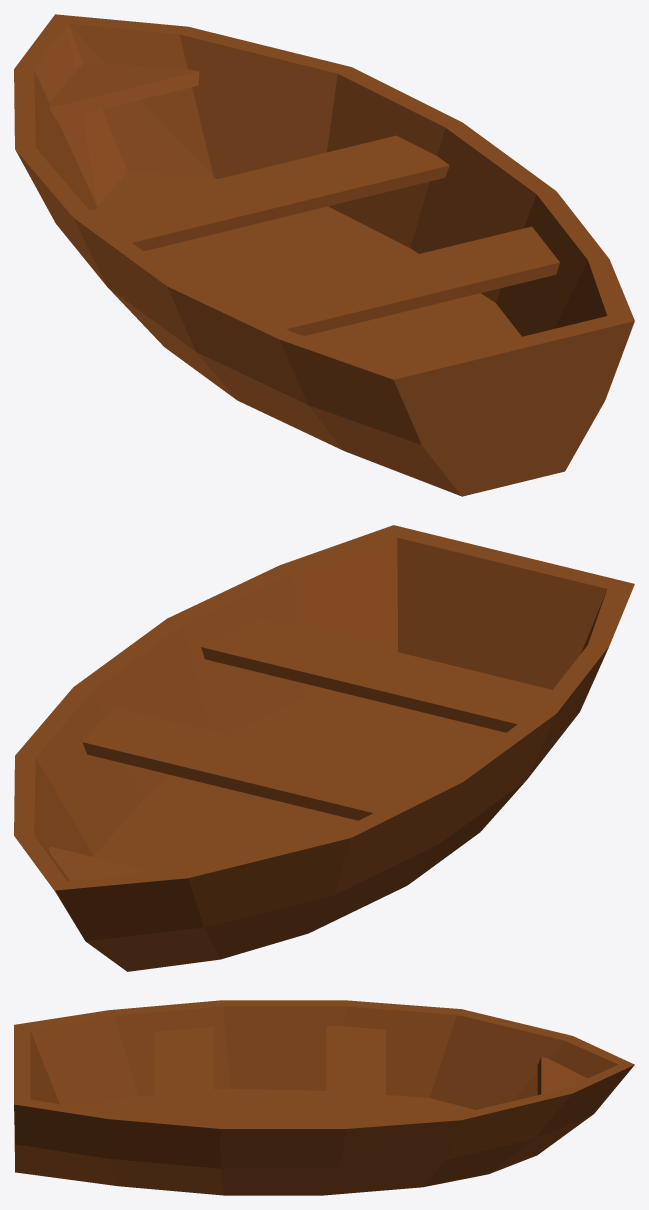
The model's file is Boat_tex.fbx.
3 views of the same model, one above another, from view 1: azimuth 30°, elevation 25°; view 2: azimuth 150°, elevation 25°; view 3: azimuth 270°, elevation 25° (orthographic). The views are drawn at different scales.
Parts seen in each view (by area): view 1: Boat_tex; view 2: Boat_tex; view 3: Boat_tex.
Boxes of the visible parts, bbox=[...] form: Boat_tex: bbox=[14, 14, 634, 496]; Boat_tex: bbox=[14, 525, 634, 971]; Boat_tex: bbox=[14, 1000, 634, 1195].
Size of the model in its own units: 1.34 by 0.4416 by 2.74.
